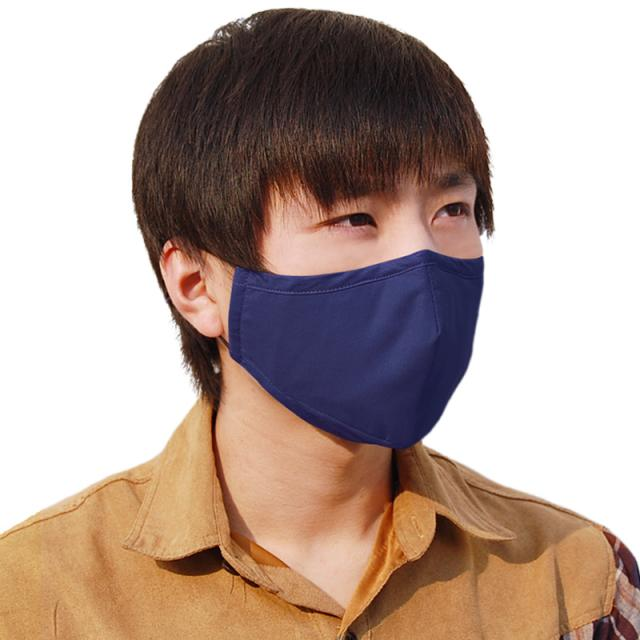mask: (240, 89, 486, 423)
